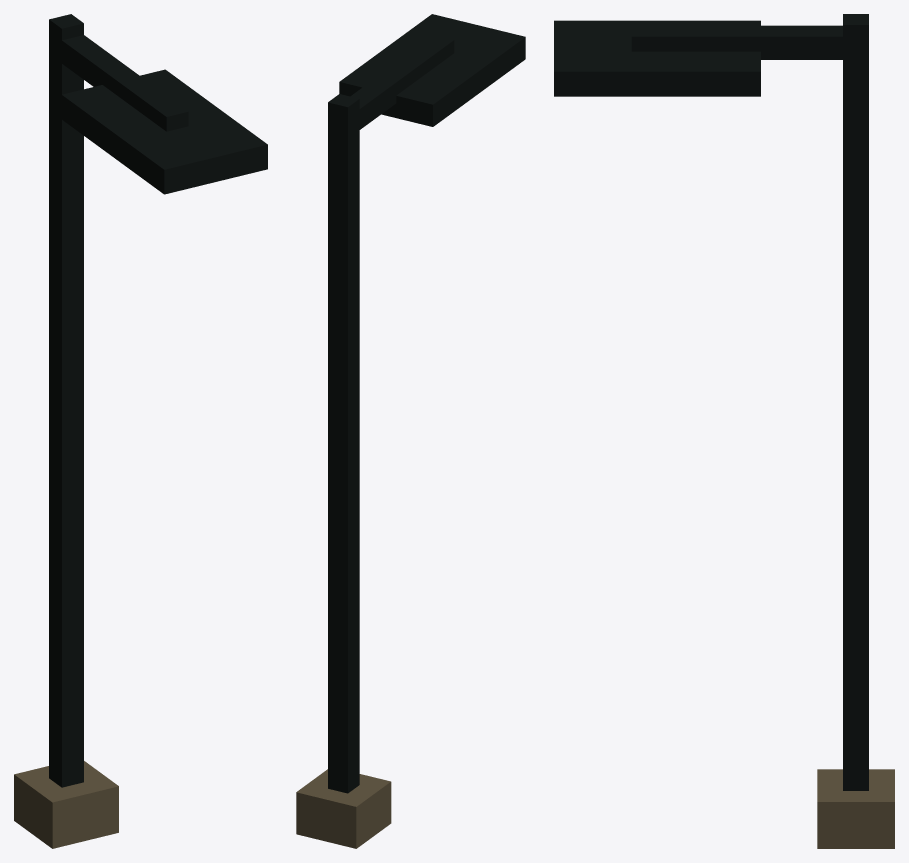
The model's file is SM_Bogota_Farola.fbx.
3 views of the same model, side by side, from view 1: azimuth 30°, elevation 25°; view 2: azimuth 150°, elevation 25°; view 3: azimuth 270°, elevation 25° (orthographic). The views are drawn at different scales.
Parts seen in each view (by area): view 1: SM_Bogota_Farola; view 2: SM_Bogota_Farola; view 3: SM_Bogota_Farola.
Part boxes in pixels (bbox=[...]): SM_Bogota_Farola: bbox=[14, 14, 267, 848]; SM_Bogota_Farola: bbox=[296, 14, 525, 848]; SM_Bogota_Farola: bbox=[554, 14, 894, 848].
Size of the model in its own units: 0.7 by 1.98 by 5.2.
